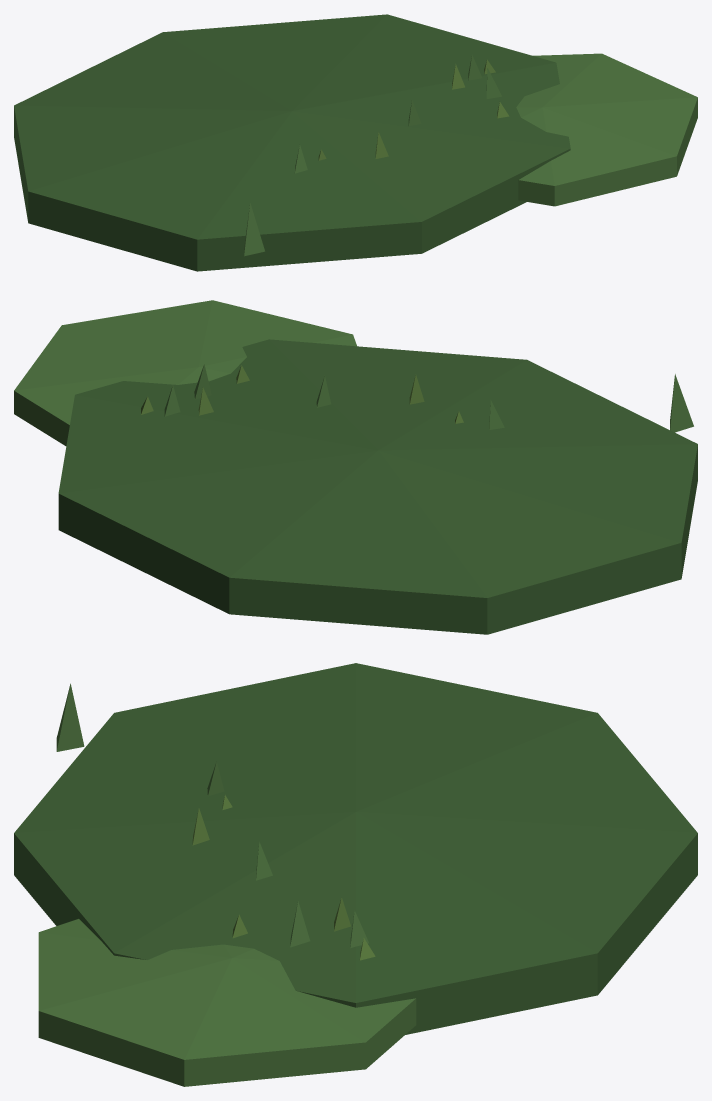
The model's file is cover_moss_patch.glb.
3 renders of one model, top to bottom at view 1: azimuth 30°, elevation 25°; view 2: azimuth 150°, elevation 25°; view 3: azimuth 270°, elevation 25°, orthographic. The views are drawn at different scales.
Parts seen in each view (by area): view 1: cover_moss_patch; view 2: cover_moss_patch; view 3: cover_moss_patch.
Part boxes in pixels (x1,y1,x2,y2): cover_moss_patch: (14, 14, 697, 271); cover_moss_patch: (14, 300, 697, 634); cover_moss_patch: (14, 663, 697, 1086).
Bounding box in the file's own units: 1.49 × 0.2077 × 1.1.
